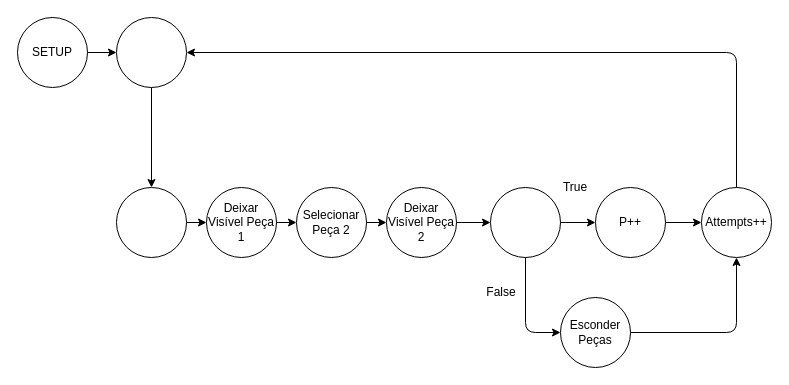
This 789x385 diagram has some shape labels left out. Here are the shapes that lost their labels. From the top down, the centre of each, then its label:
the point at 151,52: P < 8
the point at 151,222: Selecionar Peça 1
the point at 525,222: Peça 1 == Peça 2 ?
